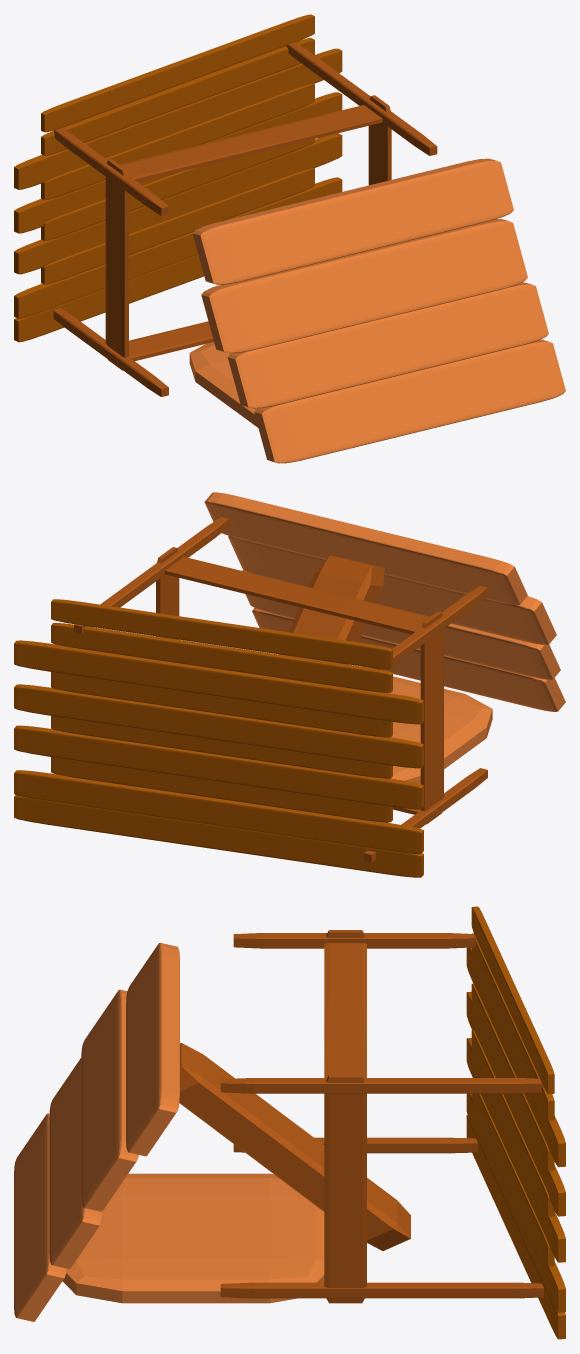
File: woodenTower_broken.fbx
The picture shows the model from 3 angles, top to bottom: view 1: azimuth 30°, elevation 25°; view 2: azimuth 150°, elevation 25°; view 3: azimuth 270°, elevation 25°; orthographic projection. The views are drawn at different scales.
Visible parts, largest first — view 1: WoodenTower_g1.001; view 2: WoodenTower_g1.001; view 3: WoodenTower_g1.001.
Part boxes in pixels (left/top/right/bottom): WoodenTower_g1.001: left=14, top=14, right=565, bottom=463; WoodenTower_g1.001: left=14, top=492, right=565, bottom=877; WoodenTower_g1.001: left=14, top=906, right=565, bottom=1339.
Bounding box in the file's own units: 366 × 213 × 423.
